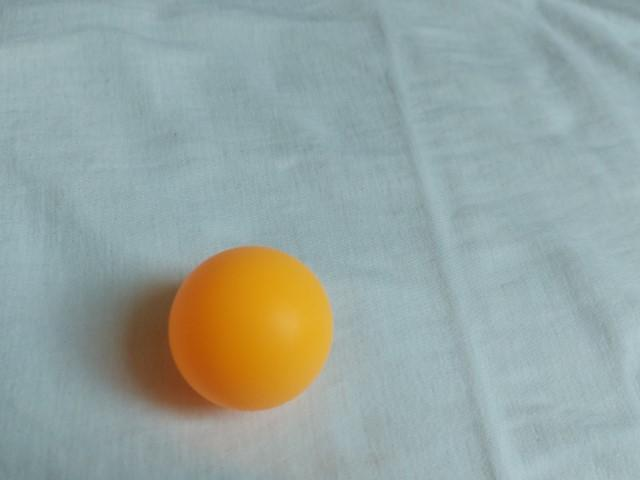oball: (157, 239, 343, 418)
